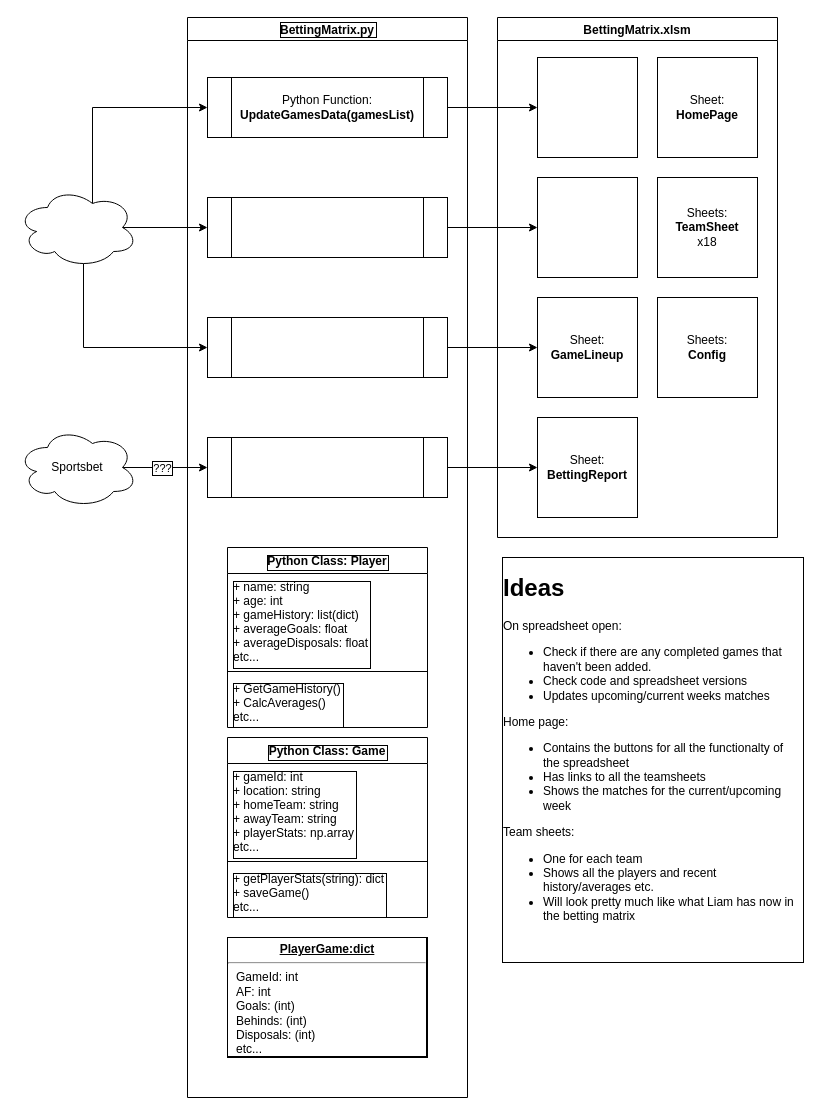
Some shapes in this 825 by 1115 pixel diagram are drawn without their labels. The shapes that lost their labels are listed below. From the top down, each one's centre as x and y in pixels, then its label:
point (587, 107): Sheet: PastGamesData
point (77, 227): AFL Website
point (327, 227): Python Function: GetSeasonFixture(year)
point (587, 227): Sheet: SeasonFixture
point (327, 347): Python Function: GetGameLineup(gameId)
point (327, 467): Python Function: GenerateBettingReport(gameId)
